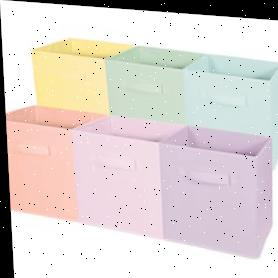cube: (154, 122, 275, 256), (68, 114, 176, 234), (4, 104, 81, 220)
